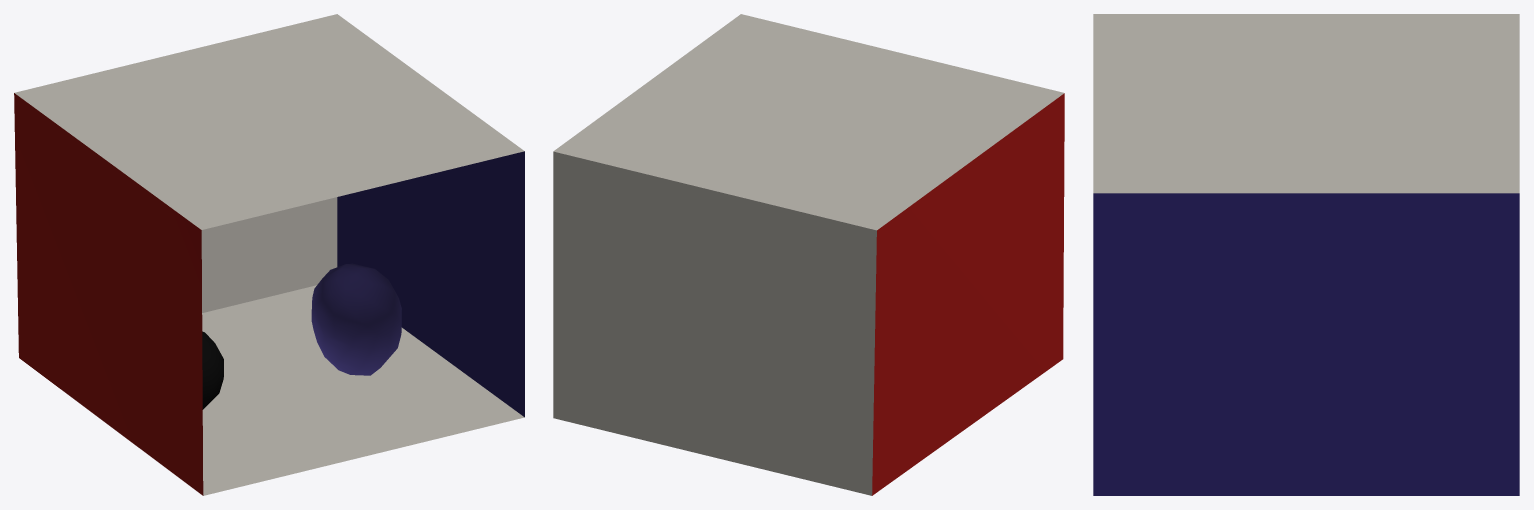
File: CornellBox-Ellipsoid-488.obj
The picture shows the model from 3 angles, left to right: view 1: azimuth 30°, elevation 25°; view 2: azimuth 150°, elevation 25°; view 3: azimuth 270°, elevation 25°; orthographic projection. The views are drawn at different scales.
Parts seen in each view (by area): view 1: ceiling, leftWall, floor, rightWall, backWall, leftSphere, rightSphere; view 2: backWall, ceiling, leftWall; view 3: rightWall, ceiling.
Boxes of the visible parts, <box> form: ceiling: <box>14,14,524,229</box>; leftWall: <box>14,93,203,495</box>; floor: <box>202,285,524,495</box>; rightWall: <box>337,151,524,417</box>; backWall: <box>201,197,337,312</box>; leftSphere: <box>311,263,401,375</box>; rightSphere: <box>202,331,223,409</box>; backWall: <box>553,151,876,495</box>; ceiling: <box>553,14,1064,230</box>; leftWall: <box>872,93,1064,495</box>; rightWall: <box>1093,193,1519,495</box>; ceiling: <box>1093,14,1519,193</box>.
Size of the model in its own units: 2.02 by 1.59 by 2.03.
